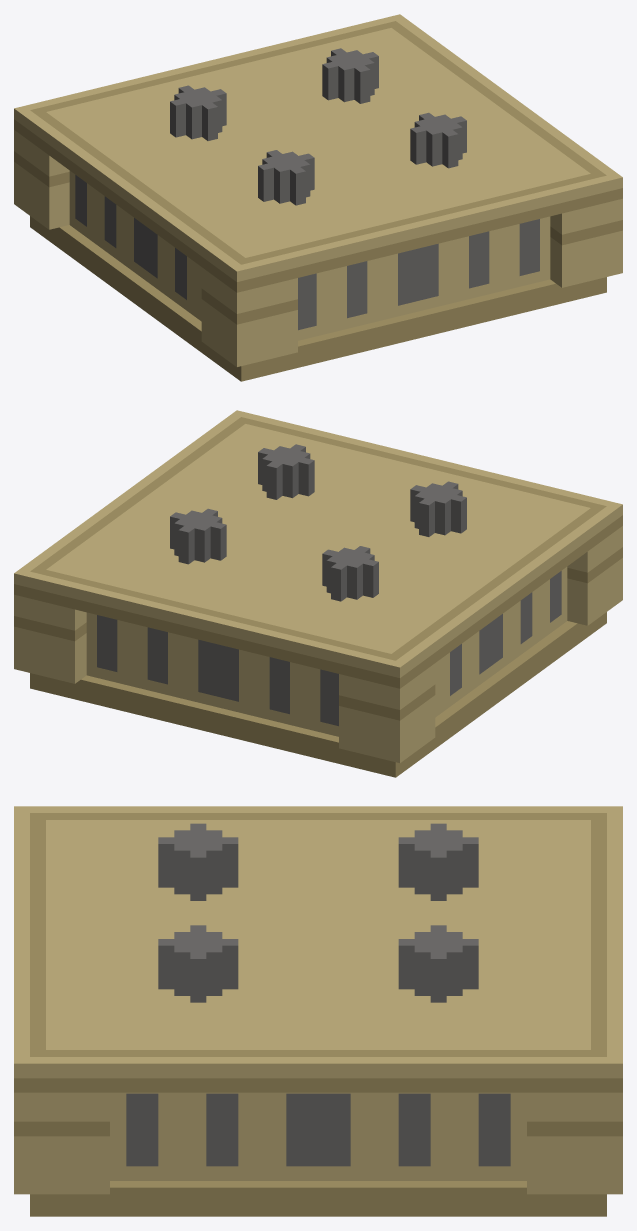
File: tier3.glb
3 renders of one model, top to bottom at view 1: azimuth 30°, elevation 25°; view 2: azimuth 150°, elevation 25°; view 3: azimuth 270°, elevation 25°, orthographic. The views are drawn at different scales.
Size of the model in its own units: 38 by 14 by 38.
